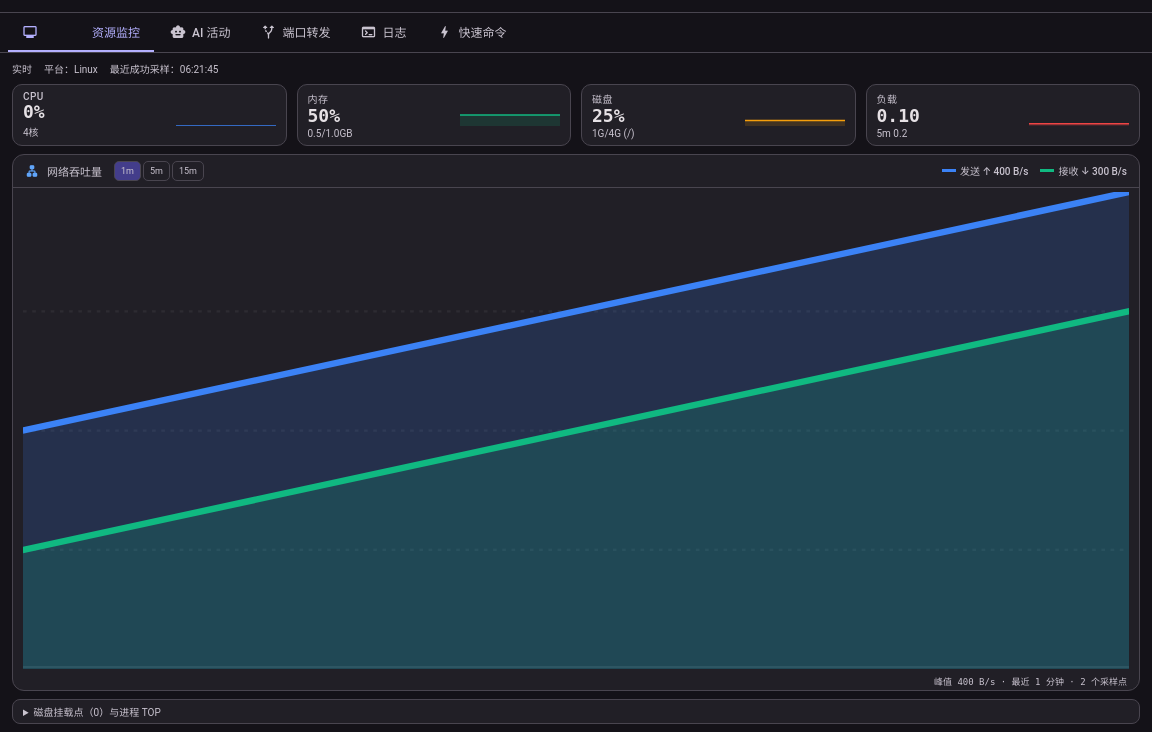
Test: 监控历史与状态 › 时间窗可切换，切换 session 会清空历史采样点
Later steps or results of the test are not shown.
Check: the text "峰值 400 B/s · 最近 1 分钟 · 2 个采样点" is shown, box [934,677,1127,687]
Click the button "5m" at {"x": 156, "y": 171}, box [143,161,170,181]
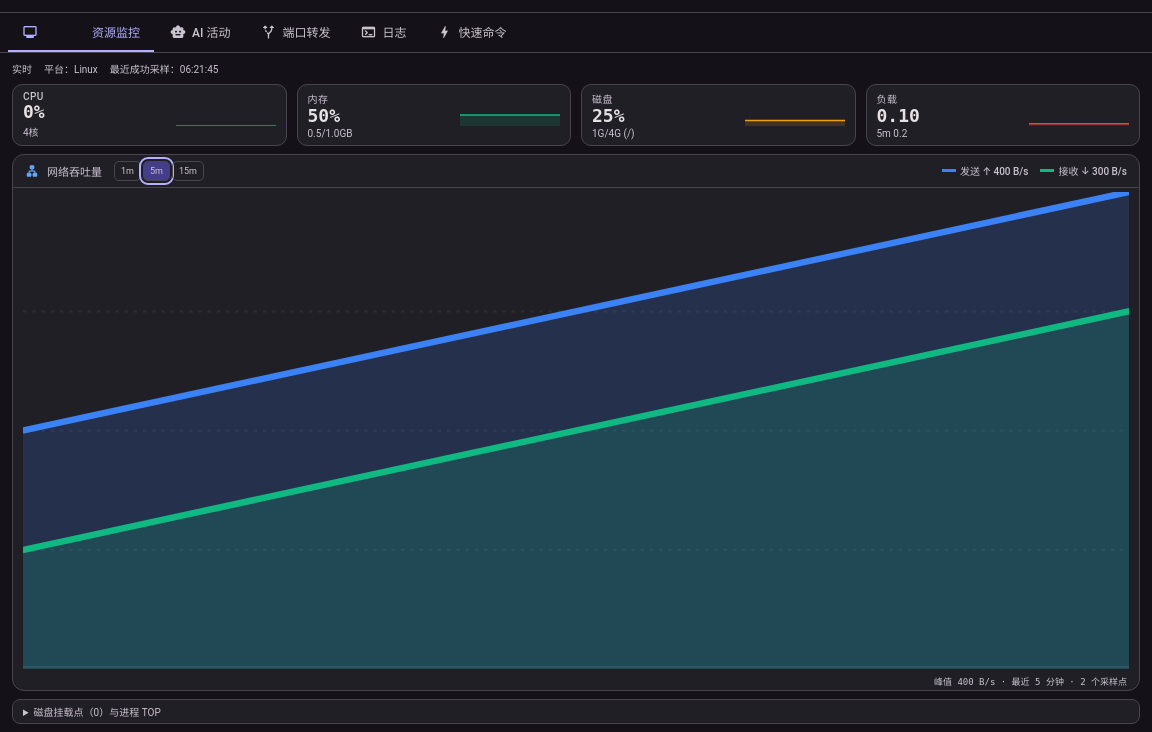
Check: the text "峰值 400 B/s · 最近 5 分钟 · 2 个采样点" is shown, box [934,677,1127,687]
